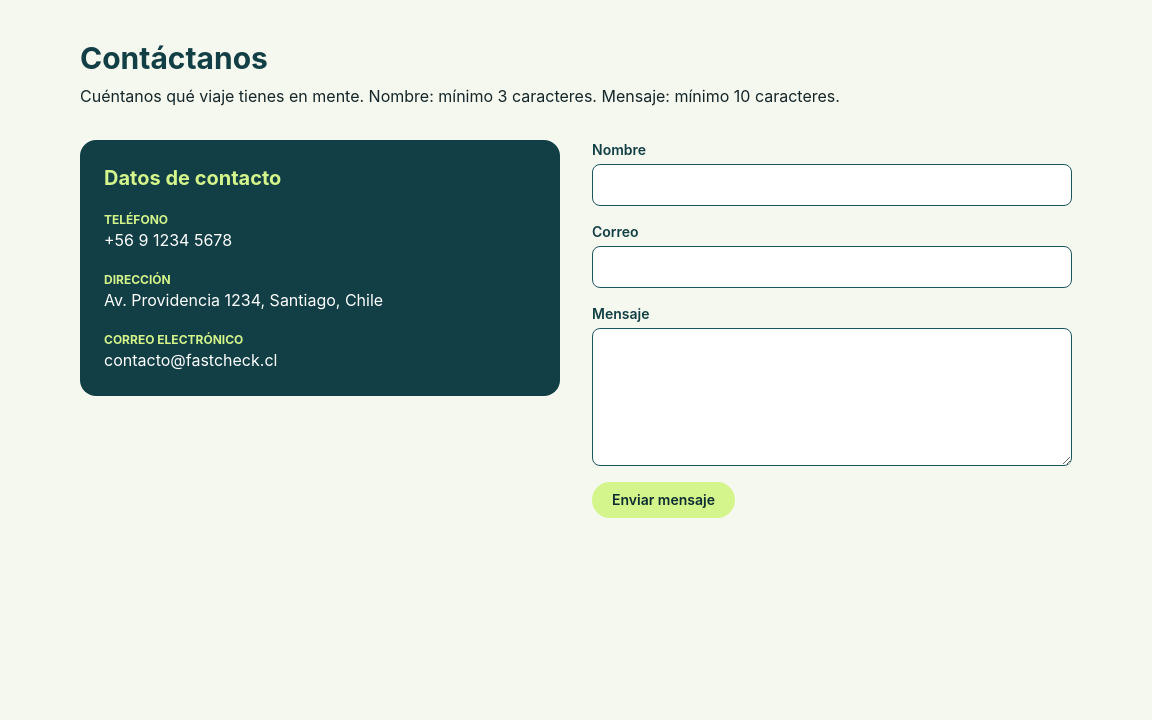
Formulario de contacto › envía y muestra aviso de éxito con datos válidos
In the field labelled "Nombre": (832, 185) [592,164,1072,206], type "Ana Pérez"
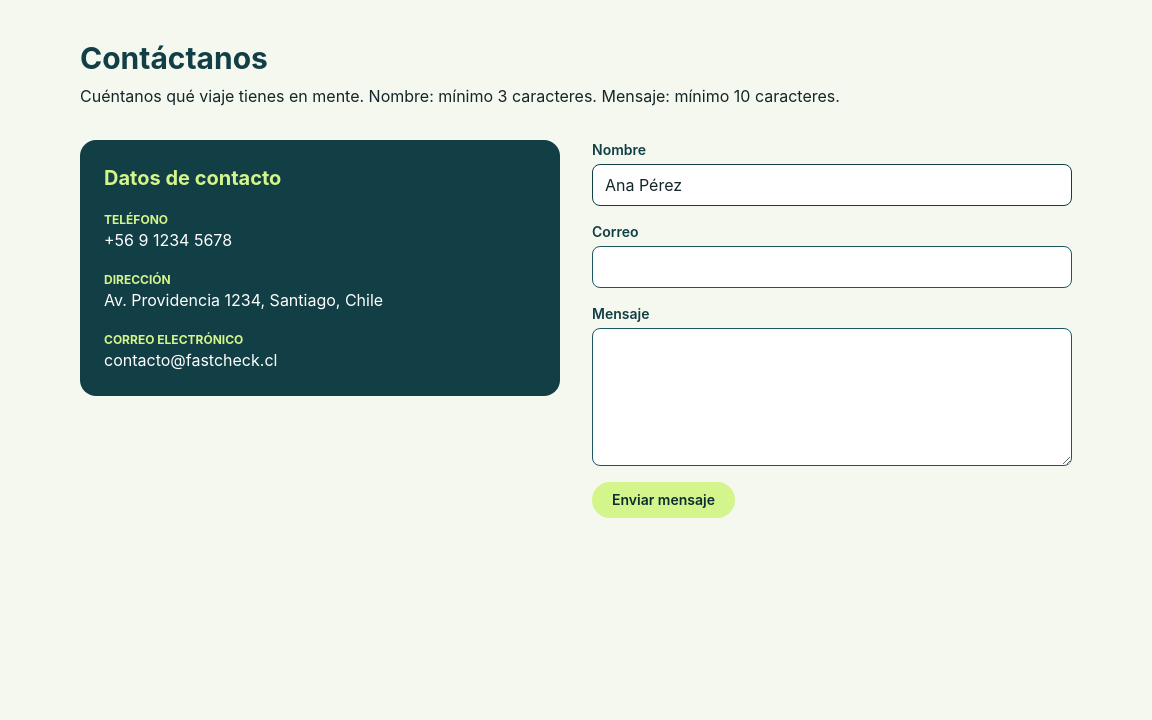
In the field labelled "Correo": (832, 267) [592,246,1072,288], type "ana@correo.cl"
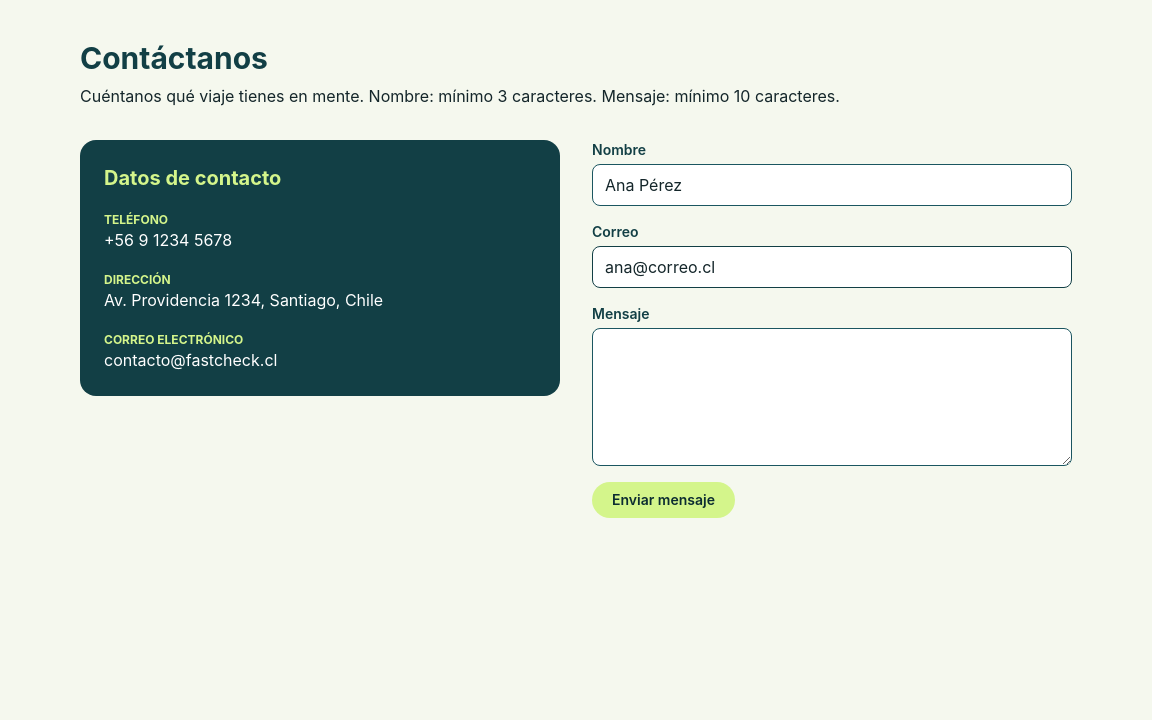
In the text box labelled "Mensaje": (832, 397) [592,328,1072,466], type "Quiero viajar a Osaka en marzo."
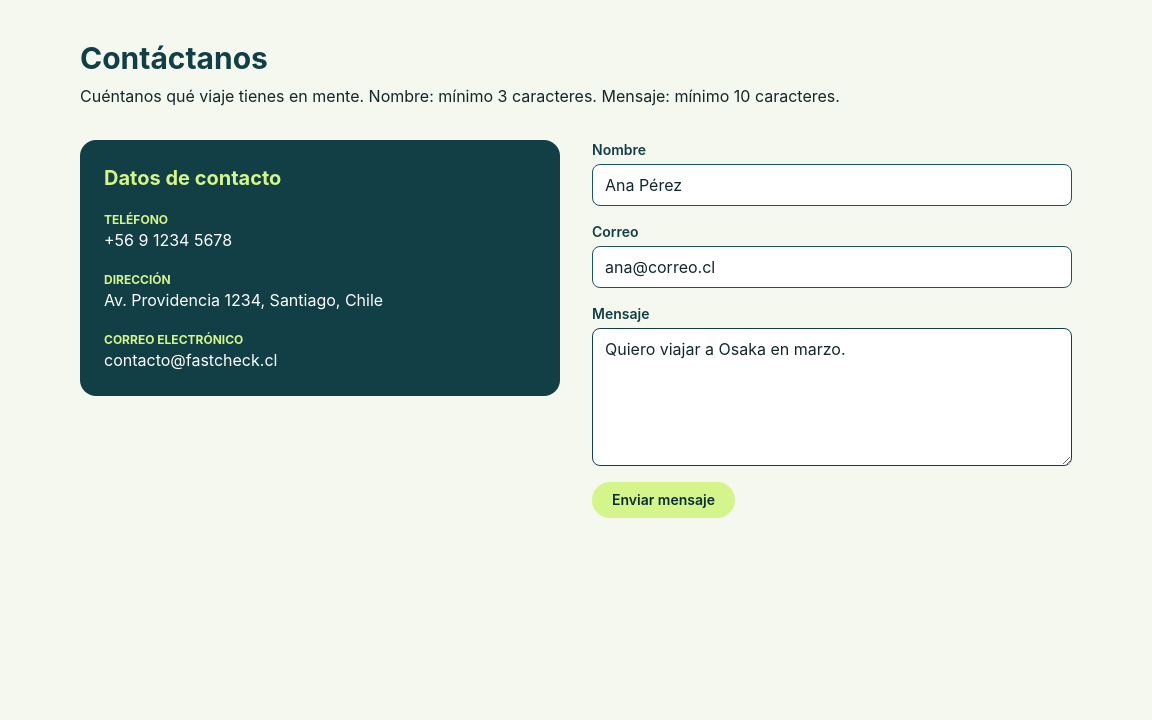
Click the button "Enviar mensaje": (663, 500) [592,482,735,518]
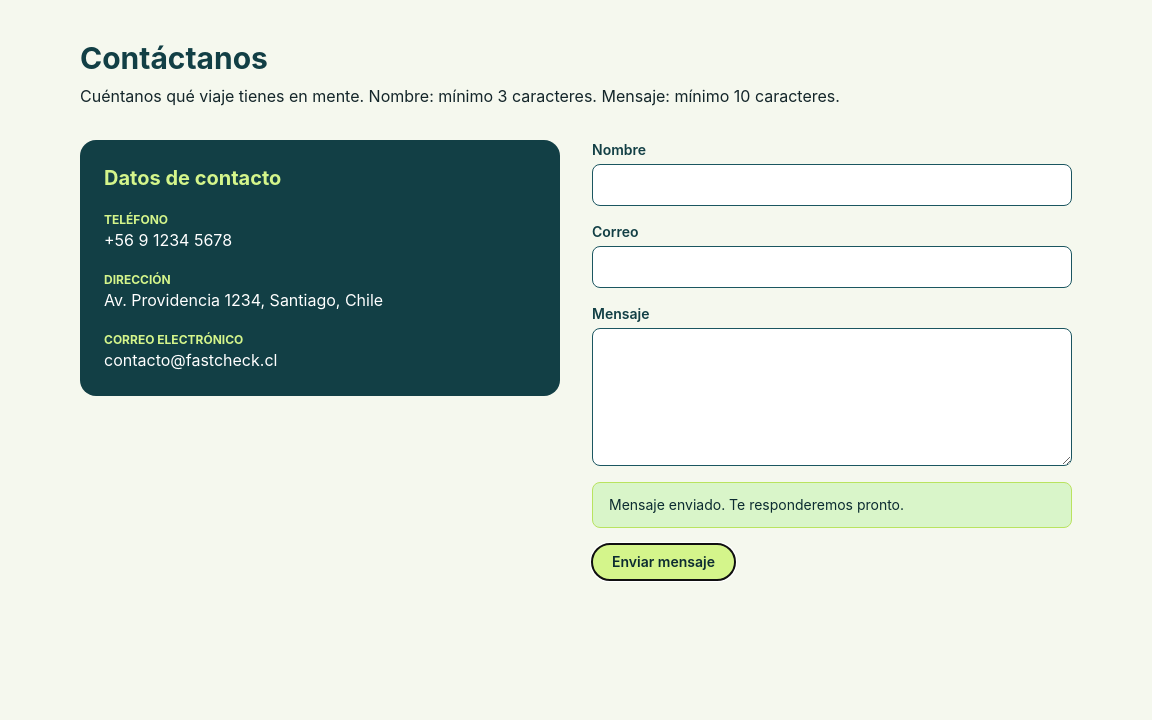
expect the text "Mensaje enviado. Te responderemos pronto." is shown: met, box [592,482,1072,528]
